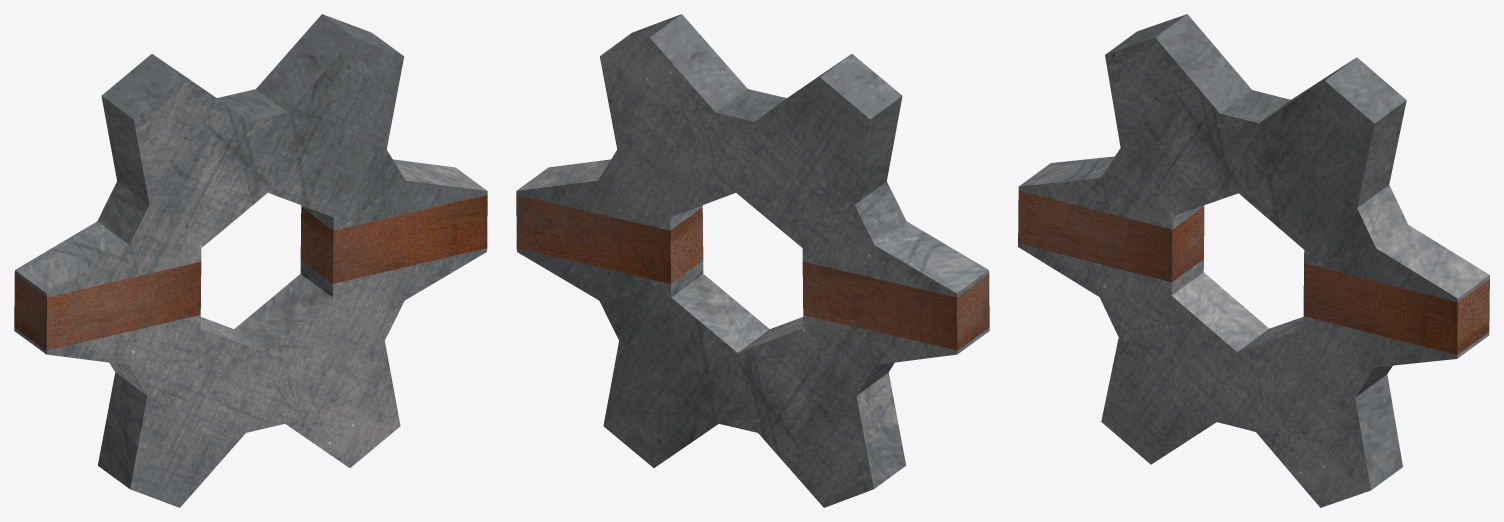
The model's file is Gear2.fbx.
3 renders of one model, left to right at view 1: azimuth 30°, elevation 25°; view 2: azimuth 150°, elevation 25°; view 3: azimuth 330°, elevation 25°, orthographic.
Visible parts, largest first — view 1: Gear2; view 2: Gear2; view 3: Gear2.
Part boxes in pixels (x1=…): Gear2: x1=14, y1=14, x2=487, y2=507; Gear2: x1=516, y1=14, x2=989, y2=507; Gear2: x1=1018, y1=14, x2=1489, y2=507.
Size of the model in its own units: 184 by 172 by 23.35.
